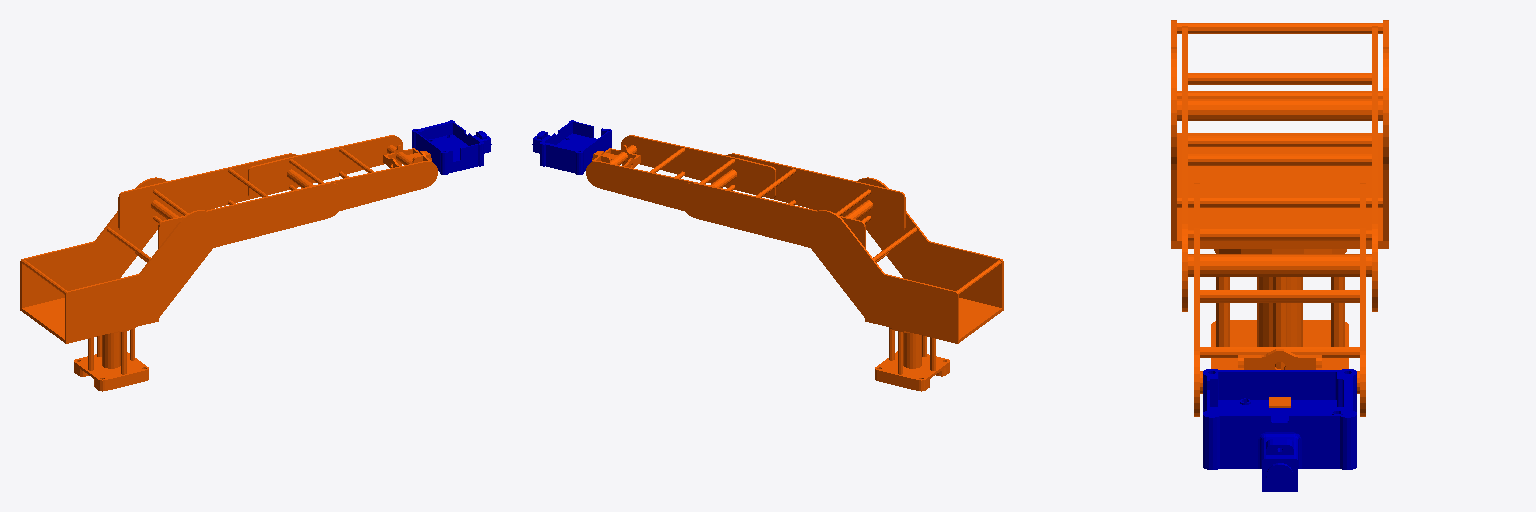
The robot description file, URDF, robot "dorna":
<?xml version="1.0" ?>
<!-- =================================================================================== -->
<!-- |    This document was autogenerated by xacro from dorna.urdf.xacro               | -->
<!-- |    EDITING THIS FILE BY HAND IS NOT RECOMMENDED                                 | -->
<!-- =================================================================================== -->
<robot name="dorna" xmlns:xacro="http://ros.org/wiki/xacro">
  <!-- scale the .STL to the right dim -->
  <!-- [rad/sec] -->
  <!-- [%] -->
  <!-- [rad/sec] -->
  <!-- [%] -->
  <!-- [rad/sec] -->
  <!-- [%] -->
  <!-- <xacro:macro name="collision_block" params="prt_name *origin *geometry">
    <collision>
      <xacro:insert_block name="origin"/>
      <xacro:insert_block name="geometry"/>
    </collision>
  </xacro:macro>

  <xacro:macro name="visual_block" params="prt_name *origin *geometry *material">
    <visual>
      <xacro:insert_block name = "origin"/>
      <xacro:insert_block name = "geometry"/>
      <xacro:insert_block name = "material"/>
    </visual>
  </xacro:macro>

  <xacro:macro name="inertial_block" params="prt_name *mass *inertia">
    <inertial>
      <xacro:insert_block name = "default_origin"/>
      <xacro:insert_block name = "mass"/>
      <xacro:insert_block name = "inertia"/>
    </inertial>
  </xacro:macro>
  
  <xacro:macro name="link_block" params="prt_name *origin *geometry *mass *material *inertia">
    <link name="${prt_name}">

      <xacro:collision_block prt_name="${prt_name}">
        <xacro:insert_block name="origin"/>
        <xacro:insert_block name="geometry"/>
      </xacro:collision_block>

      <xacro:visual_block prt_name="${prt_name}">
        <xacro:insert_block name="origin"/>
        <xacro:insert_block name="geometry"/>
        <xacro:insert_block name="material"/>
      </xacro:visual_block>

      <xacro:inertial_block prt_name="${prt_name}">
        <xacro:insert_block name="mass"/>
        <xacro:insert_block name="inertia"/>
      </xacro:inertial_block>

    </link>
  </xacro:macro> -->
  <!-- <xacro:macro name="effort_transmission_macro"   params="tran_name joint_name actuator_name">
    <transmission name="${tran_name}">
      <type>transmission_interface/SimpleTransmission</type>
      <joint name="${joint_name}">
        <hardwareInterface>hardware_interface/EffortJointInterface</hardwareInterface>
      </joint>
      <actuator name="${actuator_name}">
        <hardwareInterface>hardware_interface/EffortJointInterface</hardwareInterface>
        <mechanicalReduction>1</mechanicalReduction>
      </actuator>
    </transmission>
  </xacro:macro> -->
  <!-- <xacro:macro name="position_transmission_macro" params="tran_name joint_name actuator_name">
    <transmission name="${tran_name}">
      <type>transmission_interface/SimpleTransmission</type>
      <joint name="${joint_name}">
        <hardwareInterface>hardware_interface/PositionJointInterface</hardwareInterface>
      </joint>
      <actuator name="${actuator_name}">
        <hardwareInterface>hardware_interface/PositionJointInterface</hardwareInterface>
        <mechanicalReduction>1</mechanicalReduction>
      </actuator>
    </transmission>
  </xacro:macro> -->
  <!-- ros_control plugin -->
  <gazebo>
    <plugin filename="libgazebo_ros_control.so" name="gazebo_ros_control">
      <robotNamespace>/dorna</robotNamespace>
      <robotSimType>gazebo_ros_control/DefaultRobotHWSim</robotSimType>
    </plugin>
  </gazebo>
  <!-- Base -->
  <gazebo reference="dorna_base">
    <material>Gazebo/Orange</material>
  </gazebo>
  <gazebo reference="dorna_arm_0">
    <mu1>0.2</mu1>
    <mu2>0.2</mu2>
    <material>Gazebo/Black</material>
  </gazebo>
  <gazebo reference="dorna_arm_1">
    <mu1>0.2</mu1>
    <mu2>0.2</mu2>
    <material>Gazebo/Orange</material>
  </gazebo>
  <gazebo reference="dorna_arm_2">
    <mu1>0.2</mu1>
    <mu2>0.2</mu2>
    <material>Gazebo/Red</material>
  </gazebo>
  <gazebo reference="dorna_arm_3">
    <mu1>0.2</mu1>
    <mu2>0.2</mu2>
    <material>Gazebo/Orange</material>
  </gazebo>
  <gazebo reference="dorna_arm_4">
    <mu1>0.2</mu1>
    <mu2>0.2</mu2>
    <material>Gazebo/Black</material>
  </gazebo>
  <gazebo reference="dorna_end_effector">
    <mu1>0.2</mu1>
    <mu2>0.2</mu2>
    <material>Gazebo/Blue</material>
  </gazebo>
  <material name="black">
    <color rgba="0.0 0.0 0.0 1.0"/>
  </material>
  <material name="blue">
    <color rgba="0.0 0.0 0.8 1.0"/>
  </material>
  <material name="green">
    <color rgba="0.0 0.8 0.0 1.0"/>
  </material>
  <material name="grey">
    <color rgba="0.2 0.2 0.2 1.0"/>
  </material>
  <material name="orange">
    <color rgba="1.0 0.423529411765 0.0392156862745 1.0"/>
  </material>
  <material name="brown">
    <color rgba="0.870588235294 0.811764705882 0.764705882353 1.0"/>
  </material>
  <material name="red">
    <color rgba="0.8 0.0 0.0 1.0"/>
  </material>
  <material name="white">
    <color rgba="1.0 1.0 1.0 1.0"/>
  </material>
  <!-- ########################################### -->
  <!-- Used for fixing robot to Gazebo 'base_link' -->
  <!-- ########################################### -->
  <link name="world"/>
  <!-- ######################### -->
  <!-- dorna_base Joint and Link -->
  <!-- ######################### -->
  <joint name="fixed" type="fixed">
    <parent link="world"/>
    <child link="dorna_base"/>
    <origin rpy="0 0 0" xyz="0 0 0.76"/>
    <!-- <xacro:insert_block name = "dorna_base_origin"/> -->
  </joint>
  <link name="dorna_base">
    <collision>
      <origin rpy="0 0 0" xyz="0 0 0"/>
      <geometry>
        <mesh filename="package://dorna_description/meshes/base_v8.stl" scale="0.01 0.01 0.01"/>
      </geometry>
    </collision>
    <visual>
      <origin rpy="0 0 0" xyz="0 0 0"/>
      <geometry>
        <mesh filename="package://dorna_description/meshes/base_v8.stl" scale="0.01 0.01 0.01"/>
      </geometry>
      <material name="orange"/>
    </visual>
    <inertial>
      <origin rpy="0 0 0" xyz="0 0 0"/>
      <mass value="0.848"/>
      <inertia ixx="2.569" ixy="0.001" ixz="0.089" iyy="2.510" iyz="0.002" izz="1.261"/>
    </inertial>
  </link>
  <!-- ########################## -->
  <!-- dorna_arm_0 Joint and Link -->
  <!-- ########################## -->
  <joint name="dorna_base_to_dorna_arm_0" type="revolute">
    <parent link="dorna_base"/>
    <child link="dorna_arm_0"/>
    <origin rpy="0 0 0" xyz="0 0 0"/>
    <axis xyz="0 0 1"/>
    <limit effort="50" lower="-3.49" upper="3.05433" velocity="5.236"/>
    <!-- -175 deg, 175 deg -->
    <!-- <safety_controller k_velocity="10" k_position="15" soft_lower_limit="-2.88" soft_upper_limit="2.88" /> 10 degree saftey factor -->
  </joint>
  <link name="dorna_arm_0">
    <collision>
      <origin rpy="0 0 0" xyz="0.095 0 0.20603"/>
      <geometry>
        <mesh filename="package://dorna_description/meshes/j0_c.stl" scale="0.01 0.01 0.01"/>
      </geometry>
    </collision>
    <visual>
      <origin rpy="0 0 0" xyz="0.095 0 0.20603"/>
      <geometry>
        <mesh filename="package://dorna_description/meshes/j0_c.stl" scale="0.01 0.01 0.01"/>
      </geometry>
      <material name="orange"/>
    </visual>
    <inertial>
      <origin rpy="0 0 0" xyz="0 0 0"/>
      <mass value="1.579"/>
      <inertia ixx="28.253" ixy="0.0" ixz="-22.783" iyy="53.228" iyz="0.0" izz="34.568"/>
    </inertial>
  </link>
  <!-- ########################## -->
  <!-- dorna_arm_1 Joint and Link -->
  <!-- ########################## -->
  <joint name="dorna_arm_0_to_dorna_arm_1" type="revolute">
    <parent link="dorna_arm_0"/>
    <child link="dorna_arm_1"/>
    <origin rpy="3.14159265359 0 0" xyz="0.095 0 0.20603"/>
    <axis xyz="0 1 0"/>
    <limit effort="50" lower="-3.05433" upper="2.79253" velocity="2.618"/>
    <!-- -175 deg, 160 deg -->
    <!-- <safety_controller k_velocity="10" k_position="15" soft_lower_limit="-1.5" soft_upper_limit="2.52" /> 10 degree saftey factor -->
  </joint>
  <link name="dorna_arm_1">
    <collision>
      <origin rpy="0 0 0" xyz="0.20327 0 0"/>
      <geometry>
        <mesh filename="package://dorna_description/meshes/j1_c.stl" scale="0.01 0.01 0.01"/>
      </geometry>
    </collision>
    <visual>
      <origin rpy="0 0 0" xyz="0.20327 0 0"/>
      <geometry>
        <mesh filename="package://dorna_description/meshes/j1_c.stl" scale="0.01 0.01 0.01"/>
      </geometry>
      <material name="orange"/>
    </visual>
    <inertial>
      <origin rpy="0 0 0" xyz="0 0 0"/>
      <mass value="0.709"/>
      <inertia ixx="1.049" ixy="0.0" ixz="0.0" iyy="7.829" iyz="0.0" izz="8.685"/>
    </inertial>
  </link>
  <!-- ########################## -->
  <!-- dorna_arm_2 Joint and Link -->
  <!-- ########################## -->
  <joint name="dorna_arm_1_to_dorna_arm_2" type="revolute">
    <parent link="dorna_arm_1"/>
    <child link="dorna_arm_2"/>
    <origin rpy="0 0 0" xyz="0.20327 0 0"/>
    <axis xyz="0 1 0"/>
    <limit effort="50" lower="-2.26893" upper="2.26893" velocity="2.618"/>
    <!-- -130 deg, 130 deg -->
    <!-- <safety_controller k_velocity="10" k_position="15" soft_lower_limit="-2.1" soft_upper_limit="2.1" /> 10 degree saftey factor -->
  </joint>
  <link name="dorna_arm_2">
    <collision>
      <origin rpy="0 0 0" xyz="0.15245 0 0"/>
      <geometry>
        <mesh filename="package://dorna_description/meshes/j2_c.stl" scale="0.01 0.01 0.01"/>
      </geometry>
    </collision>
    <visual>
      <origin rpy="0 0 0" xyz="0.15245 0 0"/>
      <geometry>
        <mesh filename="package://dorna_description/meshes/j2_c.stl" scale="0.01 0.01 0.01"/>
      </geometry>
      <material name="orange"/>
    </visual>
    <inertial>
      <origin rpy="0 0 0" xyz="0 0 0"/>
      <mass value="0.501"/>
      <inertia ixx="1.467" ixy="0.0" ixz="0.0" iyy="10.271" iyz="0.0" izz="11.492"/>
    </inertial>
  </link>
  <!-- ########################## -->
  <!-- dorna_arm_3 Joint and Link -->
  <!-- ########################## -->
  <joint name="dorna_arm_2_to_dorna_arm_3" type="continuous">
    <parent link="dorna_arm_2"/>
    <child link="dorna_arm_3"/>
    <origin rpy="0 0 0" xyz="0.15245 0 0"/>
    <axis xyz="0 1 0"/>
    <limit effort="50" lower="0" upper="6.28318530718" velocity="5.236"/>
  </joint>
  <link name="dorna_arm_3">
    <collision>
      <origin rpy="0 0 0" xyz="0 0 0"/>
      <geometry>
        <mesh filename="package://dorna_description/meshes/j3_c.stl" scale="0.01 0.01 0.01"/>
      </geometry>
    </collision>
    <visual>
      <origin rpy="0 0 0" xyz="0 0 0"/>
      <geometry>
        <mesh filename="package://dorna_description/meshes/j3_c.stl" scale="0.01 0.01 0.01"/>
      </geometry>
      <material name="orange"/>
    </visual>
    <inertial>
      <origin rpy="0 0 0" xyz="0 0 0"/>
      <mass value="0.075"/>
      <inertia ixx="0.03" ixy="0.0" ixz="0.0" iyy="0.023" iyz="0.0" izz="0.049"/>
    </inertial>
  </link>
  <!-- ########################## -->
  <!-- dorna_arm_4 Joint and Link -->
  <!-- ########################## -->
  <joint name="dorna_arm_3_to_dorna_arm_4" type="continuous">
    <parent link="dorna_arm_3"/>
    <child link="dorna_arm_4"/>
    <origin rpy="0 0 0" xyz="0.0 0.0 0.0"/>
    <axis xyz="1 0 0"/>
    <limit effort="50" lower="0" upper="6.28318530718" velocity="5.236"/>
  </joint>
  <link name="dorna_arm_4">
    <collision>
      <origin rpy="0 0 0" xyz="0 0 0"/>
      <geometry>
        <mesh filename="package://dorna_description/meshes/j4_c.stl" scale="0.01 0.01 0.01"/>
      </geometry>
    </collision>
    <visual>
      <origin rpy="0 0 0" xyz="0 0 0"/>
      <geometry>
        <mesh filename="package://dorna_description/meshes/j4_c.stl" scale="0.01 0.01 0.01"/>
      </geometry>
      <material name="orange"/>
    </visual>
    <inertial>
      <origin rpy="0 0 0" xyz="0 0 0"/>
      <mass value="0.042"/>
      <inertia ixx="0.002" ixy="0.0" ixz="0.0" iyy="0.044" iyz="0.0" izz="0.044"/>
    </inertial>
  </link>
  <!-- ########################## -->
  <!-- dorna_end_effector Joint and Link -->
  <!-- ########################## -->
  <joint name="dorna_arm_4_to_dorna_end_effector" type="fixed">
    <parent link="dorna_arm_4"/>
    <child link="dorna_end_effector"/>
    <origin rpy="0 0 -1.57079632679" xyz="0.0315 0.0 0.0"/>
  </joint>
  <link name="dorna_end_effector">
    <collision>
      <origin rpy="0 -1.57079632679 0" xyz="0 0 0"/>
      <geometry>
        <mesh filename="package://dorna_description/meshes/1_finger_tool.stl" scale="0.001 0.001 0.001"/>
      </geometry>
    </collision>
    <visual>
      <origin rpy="0 -1.57079632679 0" xyz="0 0 0"/>
      <geometry>
        <mesh filename="package://dorna_description/meshes/1_finger_tool.stl" scale="0.001 0.001 0.001"/>
      </geometry>
      <material name="blue"/>
    </visual>
    <inertial>
      <origin rpy="0 0 0" xyz="0 0 0"/>
      <mass value="0.042"/>
      <inertia ixx="0.002" ixy="0.0" ixz="0.0" iyy="0.044" iyz="0.0" izz="0.044"/>
    </inertial>
  </link>
  <link name="finger_tip">
    </link>
  <joint name="dorna_end_effector_to_finger_tip" type="fixed">
    <parent link="dorna_end_effector"/>
    <child link="finger_tip"/>
    <origin rpy="1.57079632679 0 -1.57079632679" xyz="0 -0.102 0"/>
  </joint>
  <link name="pump">
    </link>
  <joint name="dorna_end_effector_to_pump" type="fixed">
    <parent link="dorna_end_effector"/>
    <child link="pump"/>
    <origin rpy="0 0 0" xyz="0.09 -0.045 0"/>
  </joint>
  <transmission name="tran0_pos">
    <type>transmission_interface/SimpleTransmission</type>
    <joint name="dorna_base_to_dorna_arm_0">
      <hardwareInterface>hardware_interface/PositionJointInterface</hardwareInterface>
    </joint>
    <actuator name="motor0_pos">
      <hardwareInterface>hardware_interface/PositionJointInterface</hardwareInterface>
      <mechanicalReduction>1</mechanicalReduction>
    </actuator>
  </transmission>
  <transmission name="tran1_pos">
    <type>transmission_interface/SimpleTransmission</type>
    <joint name="dorna_arm_0_to_dorna_arm_1">
      <hardwareInterface>hardware_interface/PositionJointInterface</hardwareInterface>
    </joint>
    <actuator name="motor1_pos">
      <hardwareInterface>hardware_interface/PositionJointInterface</hardwareInterface>
      <mechanicalReduction>1</mechanicalReduction>
    </actuator>
  </transmission>
  <transmission name="tran2_pos">
    <type>transmission_interface/SimpleTransmission</type>
    <joint name="dorna_arm_1_to_dorna_arm_2">
      <hardwareInterface>hardware_interface/PositionJointInterface</hardwareInterface>
    </joint>
    <actuator name="motor2_pos">
      <hardwareInterface>hardware_interface/PositionJointInterface</hardwareInterface>
      <mechanicalReduction>1</mechanicalReduction>
    </actuator>
  </transmission>
  <transmission name="tran3_pos">
    <type>transmission_interface/SimpleTransmission</type>
    <joint name="dorna_arm_2_to_dorna_arm_3">
      <hardwareInterface>hardware_interface/PositionJointInterface</hardwareInterface>
    </joint>
    <actuator name="motor3_pos">
      <hardwareInterface>hardware_interface/PositionJointInterface</hardwareInterface>
      <mechanicalReduction>1</mechanicalReduction>
    </actuator>
  </transmission>
  <transmission name="tran4_pos">
    <type>transmission_interface/SimpleTransmission</type>
    <joint name="dorna_arm_3_to_dorna_arm_4">
      <hardwareInterface>hardware_interface/PositionJointInterface</hardwareInterface>
    </joint>
    <actuator name="motor4_pos">
      <hardwareInterface>hardware_interface/PositionJointInterface</hardwareInterface>
      <mechanicalReduction>1</mechanicalReduction>
    </actuator>
  </transmission>
  <!-- ############# -->
  <!-- gazebo static -->
  <!-- ############# -->
  <gazebo>
    <static>false</static>
  </gazebo>
</robot>

--- What the picture shows (computed from the rendered views, not written in the file) ---
Views: 3 orthographic renders of the robot side by side, from view 1: azimuth 30°, elevation 25°; view 2: azimuth 150°, elevation 25°; view 3: azimuth 270°, elevation 25°.
Model dorna with 10 links and 9 joints (3 revolute, 2 continuous, 4 fixed), rooted at world, posed all joints at 0.
Visible links, largest first — view 1: dorna_arm_0, dorna_arm_1, dorna_arm_2, dorna_end_effector, dorna_base; view 2: dorna_arm_0, dorna_arm_1, dorna_arm_2, dorna_end_effector, dorna_base; view 3: dorna_arm_0, dorna_end_effector, dorna_arm_1, dorna_arm_2, dorna_base, dorna_arm_3.
Boxes of the visible links, box(x1,y1,x2,y2) form: dorna_arm_0: box(20, 177, 219, 368); dorna_arm_1: box(118, 153, 344, 248); dorna_arm_2: box(248, 135, 437, 210); dorna_end_effector: box(412, 120, 491, 174); dorna_base: box(74, 327, 148, 391); dorna_arm_0: box(804, 177, 1003, 368); dorna_arm_1: box(679, 153, 905, 248); dorna_arm_2: box(586, 135, 775, 210); dorna_end_effector: box(532, 120, 611, 174); dorna_base: box(875, 327, 949, 391); dorna_arm_0: box(1171, 20, 1388, 346); dorna_end_effector: box(1203, 369, 1356, 491); dorna_arm_1: box(1182, 26, 1377, 311); dorna_arm_2: box(1194, 183, 1365, 416); dorna_base: box(1211, 249, 1348, 369); dorna_arm_3: box(1238, 349, 1321, 369).
Size in the robot's own frame: 0.6781 by 0.1206 by 0.241 metres.
7 mesh visuals loaded from 7 distinct referenced files (7 binary STL).
